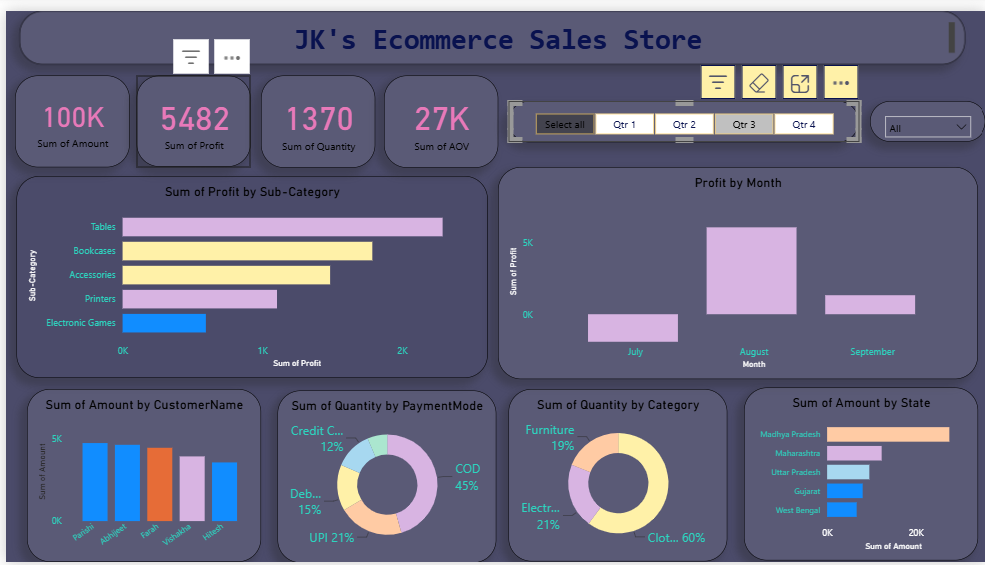

Layout of this report page (visuals, bound fields, positions):
{"tool":"powerbi","page":{"name":"Page 1","canvas":[1280,720],"ordinal":0},"visuals":[{"type":"textbox","box":[18,0,1236,70],"z":0},{"type":"columnChart","title":"Profit by Month","fields":{"Category":["Orders.Order Date.Variation.Date Hierarchy.Month"],"Y":["Sum(Details.Profit)"]},"box":[644,204,627.1,277.1],"z":1000},{"type":"barChart","fields":{"Category":["Details.Sub-Category"],"Y":["Sum(Details.Profit)"]},"box":[12.9,215.7,615.7,264.3],"z":2000},{"type":"donutChart","fields":{"Category":["Details.Category"],"Y":["Sum(Details.Quantity)"]},"box":[657.1,494.3,285.8,225.5],"z":3000},{"type":"donutChart","fields":{"Category":["Details.PaymentMode"],"Y":["Sum(Details.Quantity)"]},"box":[354.3,495.7,285.8,225.5],"z":4000},{"type":"card","fields":{"Values":["Sum(Details.Amount)"]},"box":[12,84,150,120],"z":5000},{"type":"card","fields":{"Values":["Sum(Details.Profit)"]},"box":[170,84,149.5,119.4],"z":6000},{"type":"card","fields":{"Values":["Sum(Details.AOV)"]},"box":[494,84,149.5,120.6],"z":7000},{"type":"card","fields":{"Values":["Sum(Details.Quantity)"]},"box":[334,84,149.5,120.6],"z":8000},{"type":"barChart","fields":{"Category":["Orders.State"],"Y":["Sum(Details.Amount)"]},"box":[964,492,306,226],"z":9000},{"type":"columnChart","fields":{"Category":["Orders.CustomerName"],"Y":["Sum(Details.Amount)"]},"box":[28,494,306,226],"z":10000},{"type":"slicer","fields":{"Values":["Orders.Order Date.Variation.Date Hierarchy.Quarter"]},"box":[657.1,117.1,458,54],"z":11000},{"type":"slicer","fields":{"Values":["Orders.City"]},"box":[1128.6,117.1,151.7,53.3],"z":12000}]}

Visuals, with their boxes in screenshot pixels (x1, y1, x2, y2), scaled from the page's 1280x720 canvas onto the 985x565 screenshot:
textbox: pyautogui.locateOnScreen(14, 0, 965, 55)
"Profit by Month" columnChart: pyautogui.locateOnScreen(496, 160, 978, 378)
barChart - Details.Sub-Category x Sum(Details.Profit): pyautogui.locateOnScreen(10, 169, 484, 377)
donutChart - Details.Category x Sum(Details.Quantity): pyautogui.locateOnScreen(506, 388, 726, 564)
donutChart - Details.PaymentMode x Sum(Details.Quantity): pyautogui.locateOnScreen(273, 389, 493, 564)
card - Sum(Details.Amount): pyautogui.locateOnScreen(9, 66, 125, 160)
card - Sum(Details.Profit): pyautogui.locateOnScreen(131, 66, 246, 160)
card - Sum(Details.AOV): pyautogui.locateOnScreen(380, 66, 495, 161)
card - Sum(Details.Quantity): pyautogui.locateOnScreen(257, 66, 372, 161)
barChart - Orders.State x Sum(Details.Amount): pyautogui.locateOnScreen(742, 386, 977, 563)
columnChart - Orders.CustomerName x Sum(Details.Amount): pyautogui.locateOnScreen(22, 388, 257, 564)
slicer - Orders.Order Date.Variation.Date Hierarchy.Quarter: pyautogui.locateOnScreen(506, 92, 858, 134)
slicer - Orders.City: pyautogui.locateOnScreen(868, 92, 984, 134)
